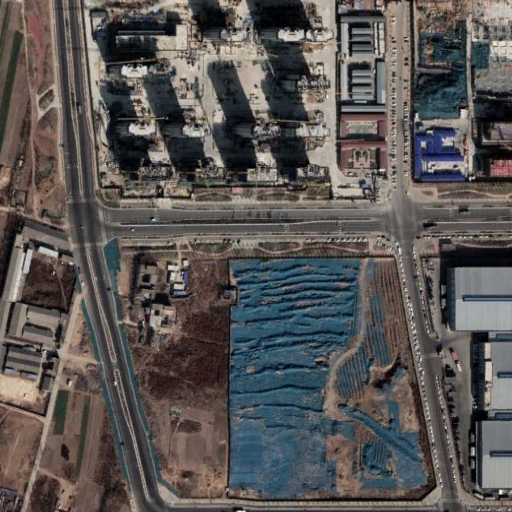cw: (229, 257, 435, 501), (413, 13, 488, 119)
